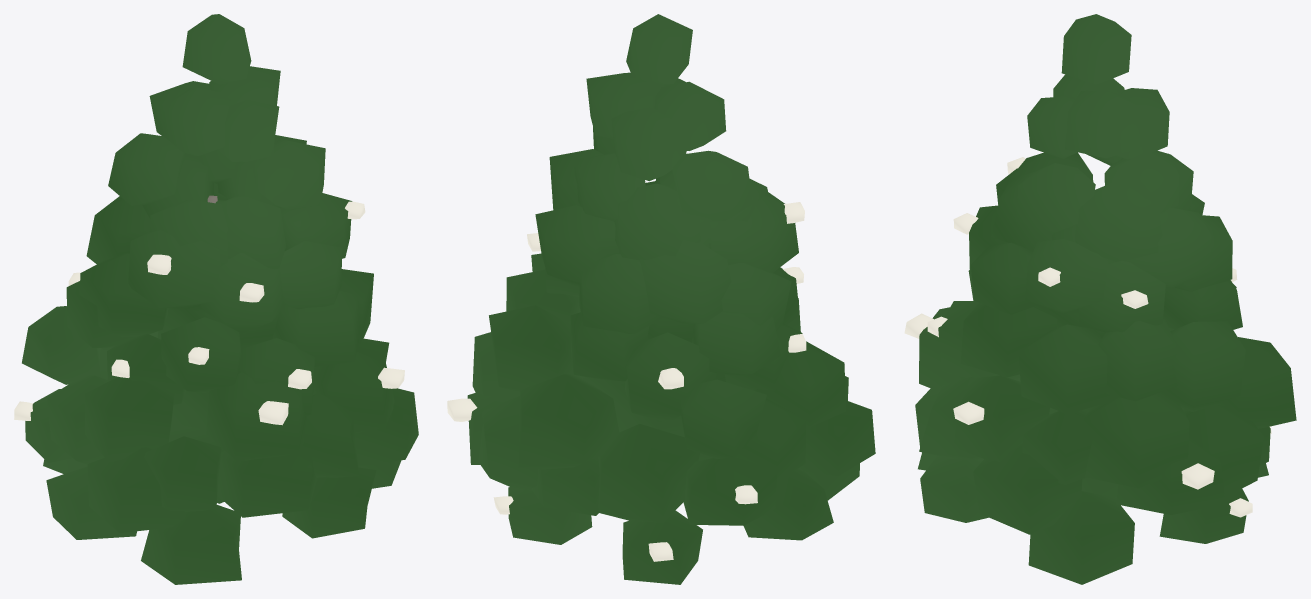
Rendered from Blender_Magnolia_1_Far.glb.
The picture shows the model from 3 angles, left to right: view 1: azimuth 30°, elevation 25°; view 2: azimuth 150°, elevation 25°; view 3: azimuth 270°, elevation 25°; orthographic projection.
Visible parts, largest first — view 1: Blender_Magnolia_1_Far; view 2: Blender_Magnolia_1_Far; view 3: Blender_Magnolia_1_Far.
Boxes of the visible parts, x1,y1,x2,y2 form: Blender_Magnolia_1_Far: (14,14,418,584); Blender_Magnolia_1_Far: (447,14,875,584); Blender_Magnolia_1_Far: (904,14,1296,584).
Bounding box in the file's own units: 13.08 × 18.67 × 13.21.
